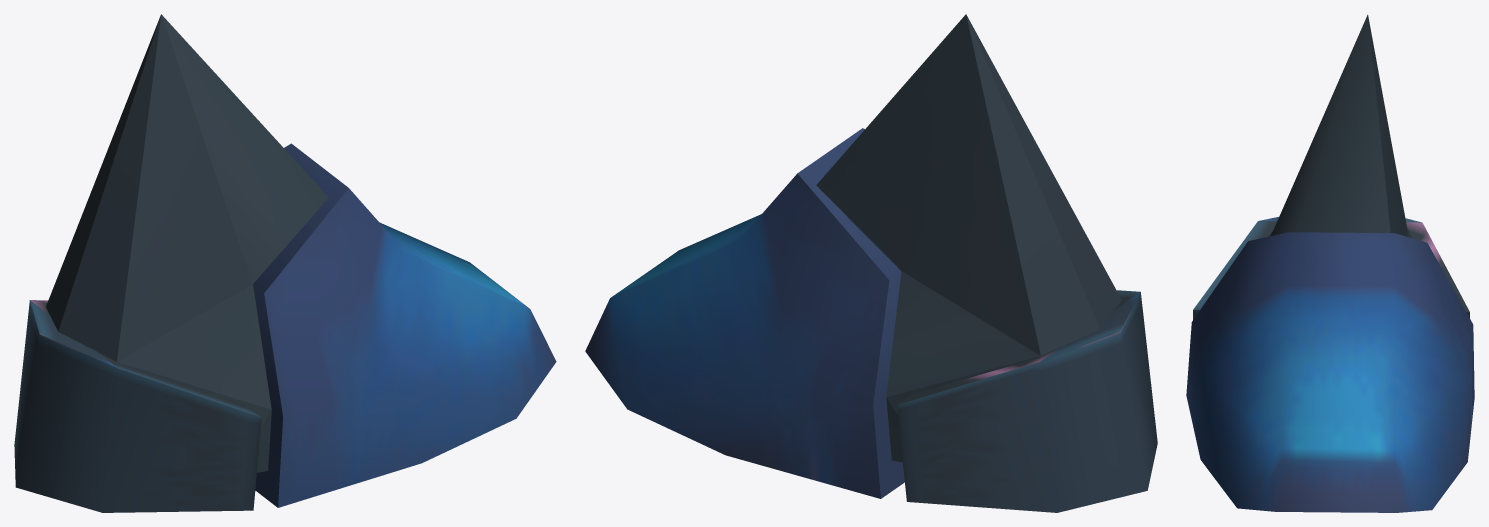
File: megamanX_pieD.obj
3 renders of one model, left to right at view 1: azimuth 30°, elevation 25°; view 2: azimuth 150°, elevation 25°; view 3: azimuth 270°, elevation 25°, orthographic. The views are drawn at different scales.
Visible parts, largest first — view 1: Pierna_izquierda013, Pierna_izquierda012, Pierna_izquierda011, Pierna_izquierda014; view 2: Pierna_izquierda013, Pierna_izquierda011, Pierna_izquierda014, Pierna_izquierda012; view 3: Pierna_izquierda013, Pierna_izquierda014, Pierna_izquierda011.
Boxes of the visible parts, x1,y1,x2,y2 form: Pierna_izquierda013: (253, 143, 556, 507); Pierna_izquierda012: (46, 14, 271, 472); Pierna_izquierda011: (14, 300, 261, 512); Pierna_izquierda014: (161, 14, 328, 283); Pierna_izquierda013: (585, 128, 904, 498); Pierna_izquierda011: (897, 290, 1157, 512); Pierna_izquierda014: (816, 14, 1040, 355); Pierna_izquierda012: (886, 15, 1121, 462); Pierna_izquierda013: (1186, 232, 1474, 512); Pierna_izquierda014: (1271, 14, 1407, 236); Pierna_izquierda011: (1193, 217, 1469, 319).
Size of the model in its own units: 2.59 by 2.08 by 1.44.
